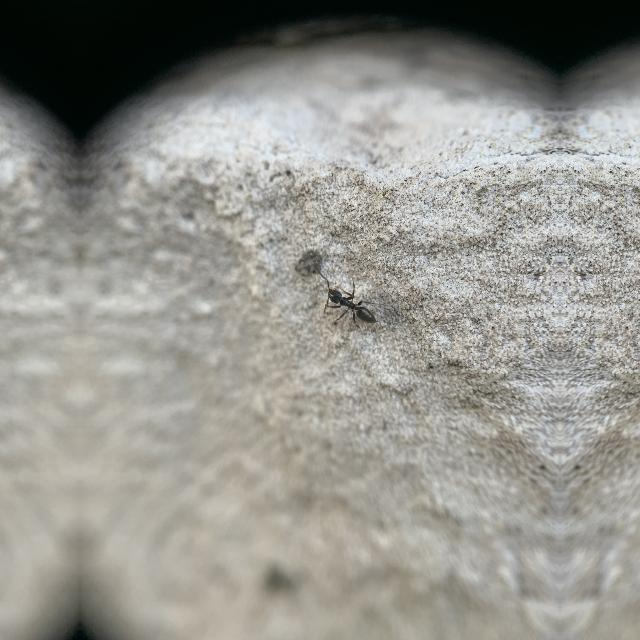Tapinoma: (317, 272, 379, 336)
